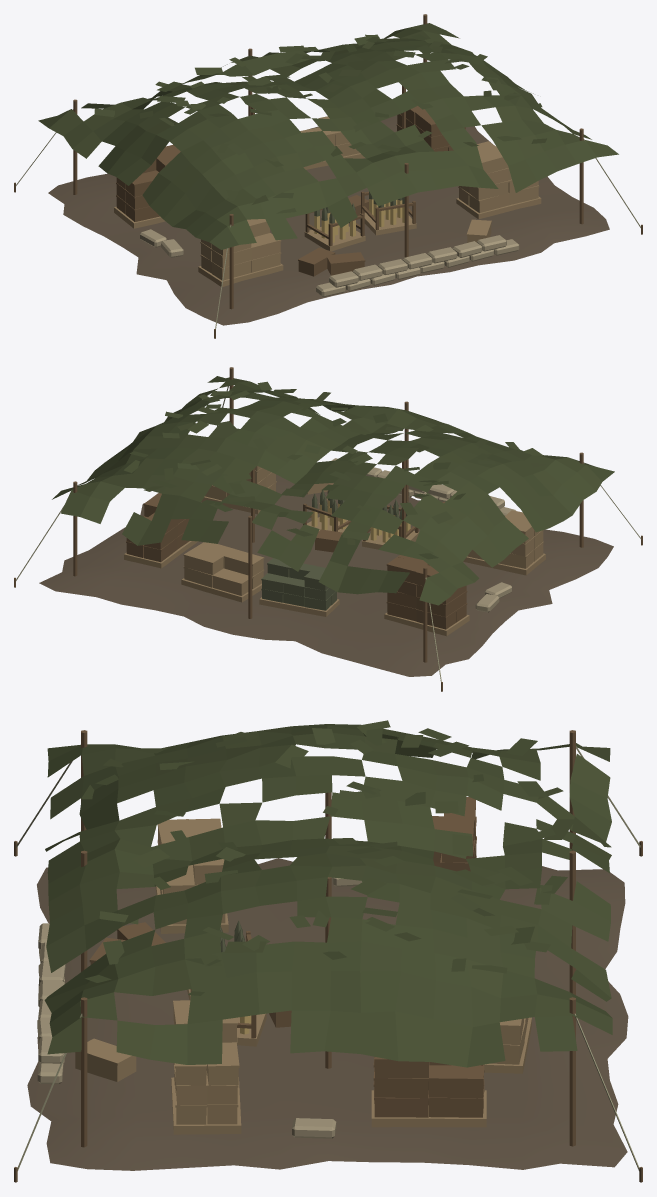
Rendered from Enemy_Depot.fbx.
3 renders of one model, top to bottom at view 1: azimuth 30°, elevation 25°; view 2: azimuth 150°, elevation 25°; view 3: azimuth 270°, elevation 25°, orthographic. The views are drawn at different scales.
Visible parts, largest first — view 1: Enemy_Depot_Mesh; view 2: Enemy_Depot_Mesh; view 3: Enemy_Depot_Mesh.
Boxes of the visible parts, x1,y1,x2,y2 form: Enemy_Depot_Mesh: (14,14,642,338); Enemy_Depot_Mesh: (14,367,642,691); Enemy_Depot_Mesh: (14,720,642,1182).
Size of the model in its own units: 10.79 by 3.16 by 8.75.
